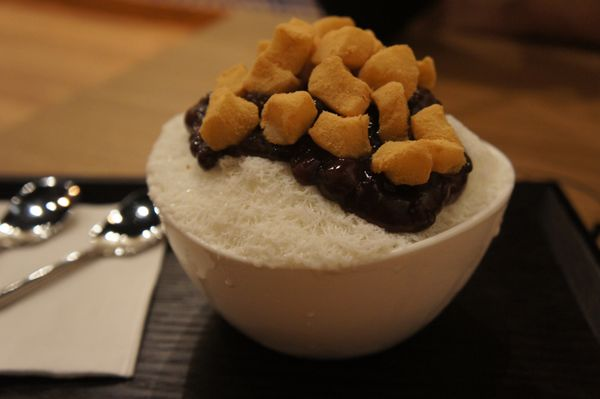curry: (48, 5, 599, 387)
